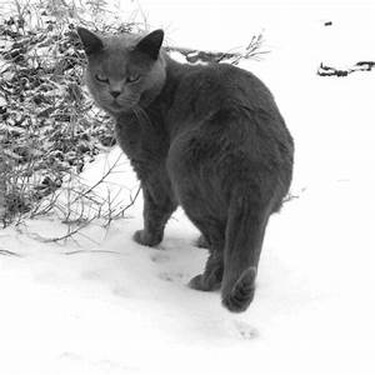cat: (75, 28, 298, 313)
